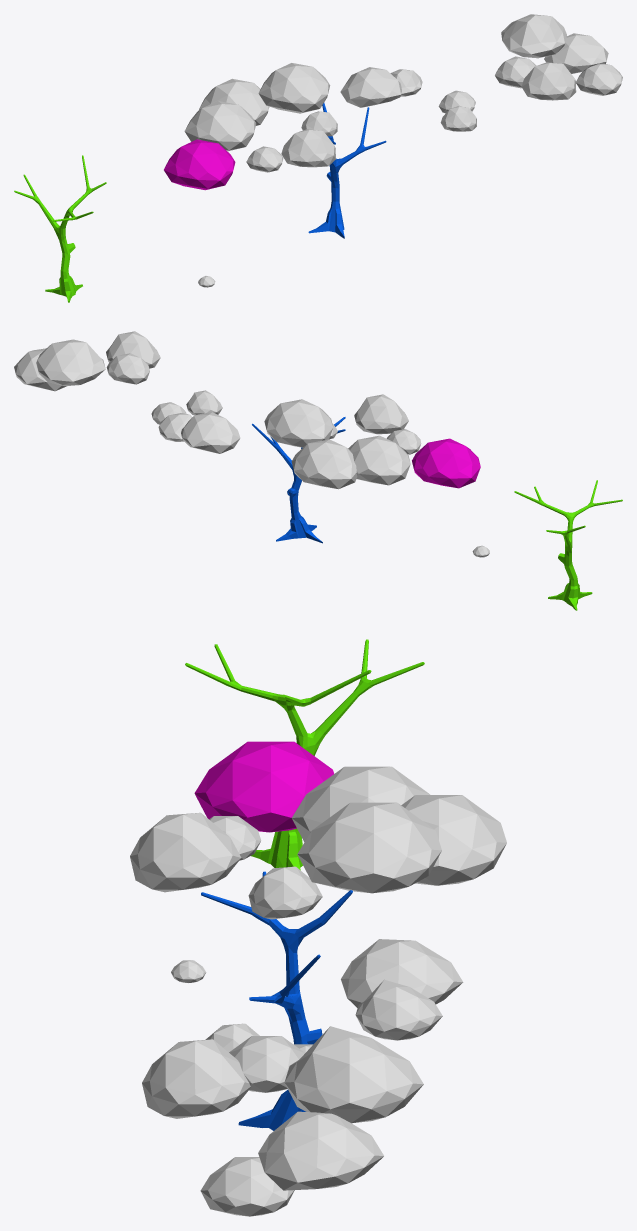
Rendered from baume_a03.fbx.
The picture shows the model from 3 angles, top to bottom: view 1: azimuth 30°, elevation 25°; view 2: azimuth 150°, elevation 25°; view 3: azimuth 270°, elevation 25°; orthographic projection. The views are drawn at different scales.
Visible parts, largest first — view 1: baum 1.001, baum 2.001, baum 3.001, baum 1.005, baum 1.002, baum 1.003; view 2: baum 1.001, baum 2.001, baum 3.001, baum 1.005, baum 1.002, baum 1.003; view 3: baum 1.001, baum 2.001, baum 3.001, baum 1.005, baum 1.002, baum 1.003.
Boxes of the visible parts, x1,y1,x2,y2 form: baum 1.001: [184, 63, 337, 172]; baum 2.001: [495, 14, 622, 100]; baum 3.001: [340, 67, 476, 131]; baum 1.005: [164, 139, 235, 190]; baum 1.002: [14, 155, 106, 302]; baum 1.003: [308, 102, 386, 238]; baum 1.001: [264, 394, 421, 489]; baum 2.001: [14, 331, 160, 391]; baum 3.001: [151, 390, 240, 453]; baum 1.005: [412, 438, 480, 488]; baum 1.002: [514, 480, 622, 610]; baum 1.003: [252, 417, 345, 543]; baum 1.001: [130, 766, 506, 919]; baum 2.001: [142, 1026, 423, 1216]; baum 3.001: [205, 939, 463, 1052]; baum 1.005: [194, 741, 334, 832]; baum 1.002: [185, 639, 424, 870]; baum 1.003: [201, 871, 352, 1130].
Size of the model in its own units: 7506 by 1898 by 2125.
